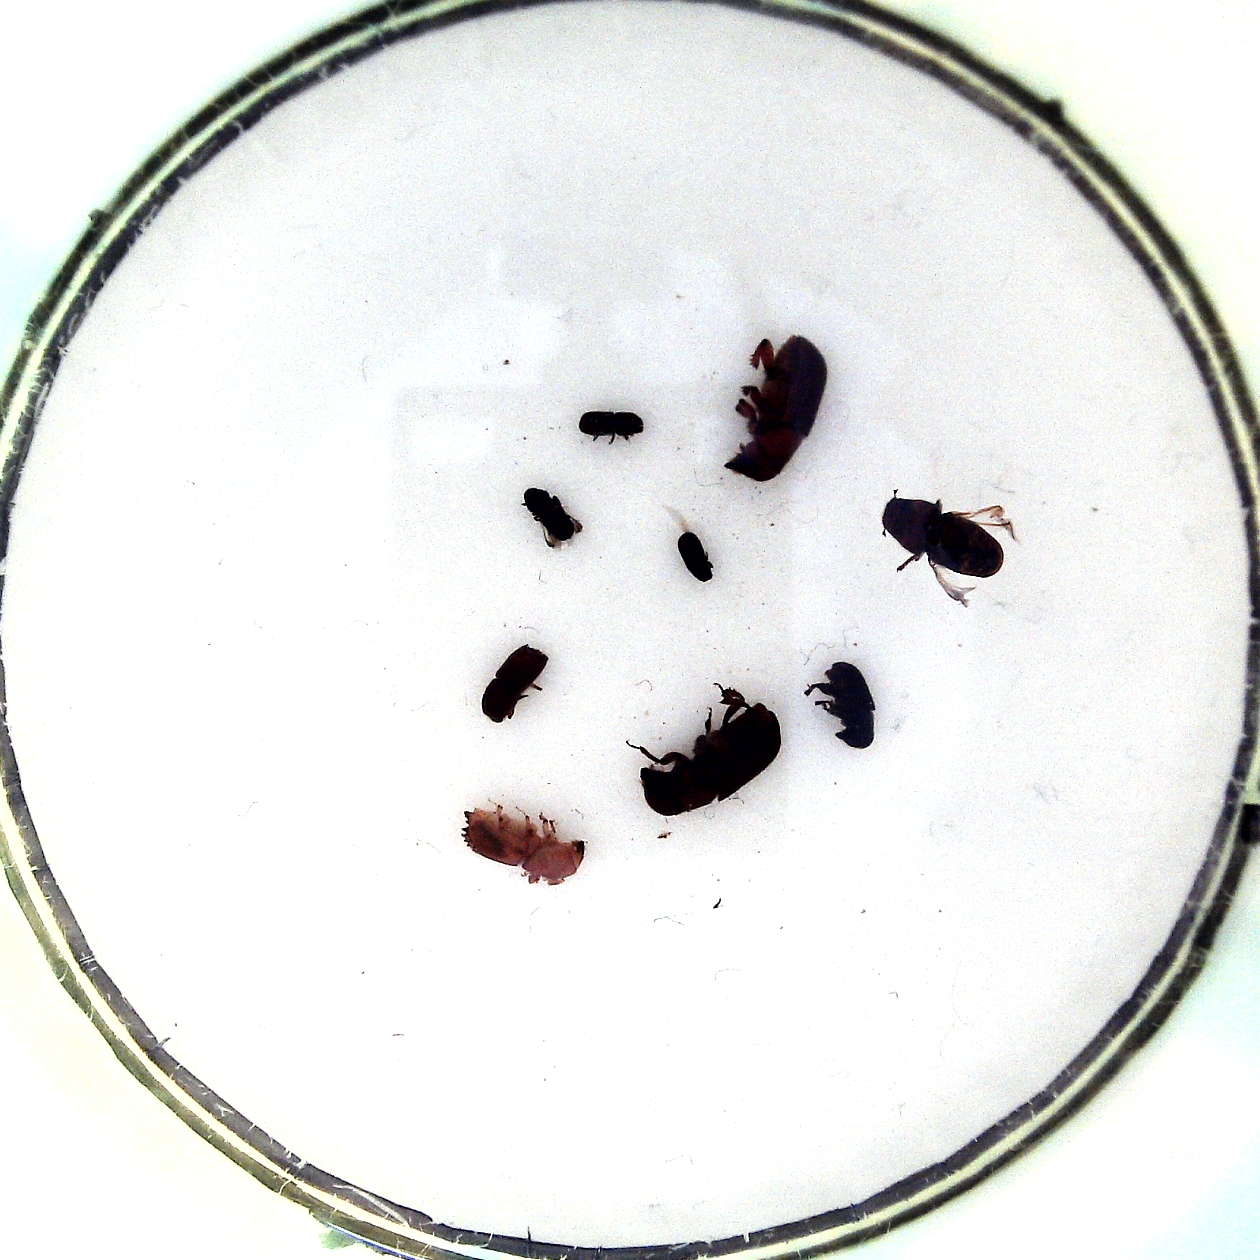Boerner: (453, 800, 598, 890)
Leconte: (621, 682, 789, 815), (875, 483, 1023, 610), (719, 329, 834, 488)
Linnaeus: (473, 638, 563, 726)
armandi: (798, 657, 884, 757)
coleoptera: (516, 477, 588, 552), (660, 503, 722, 587), (575, 398, 658, 449)
